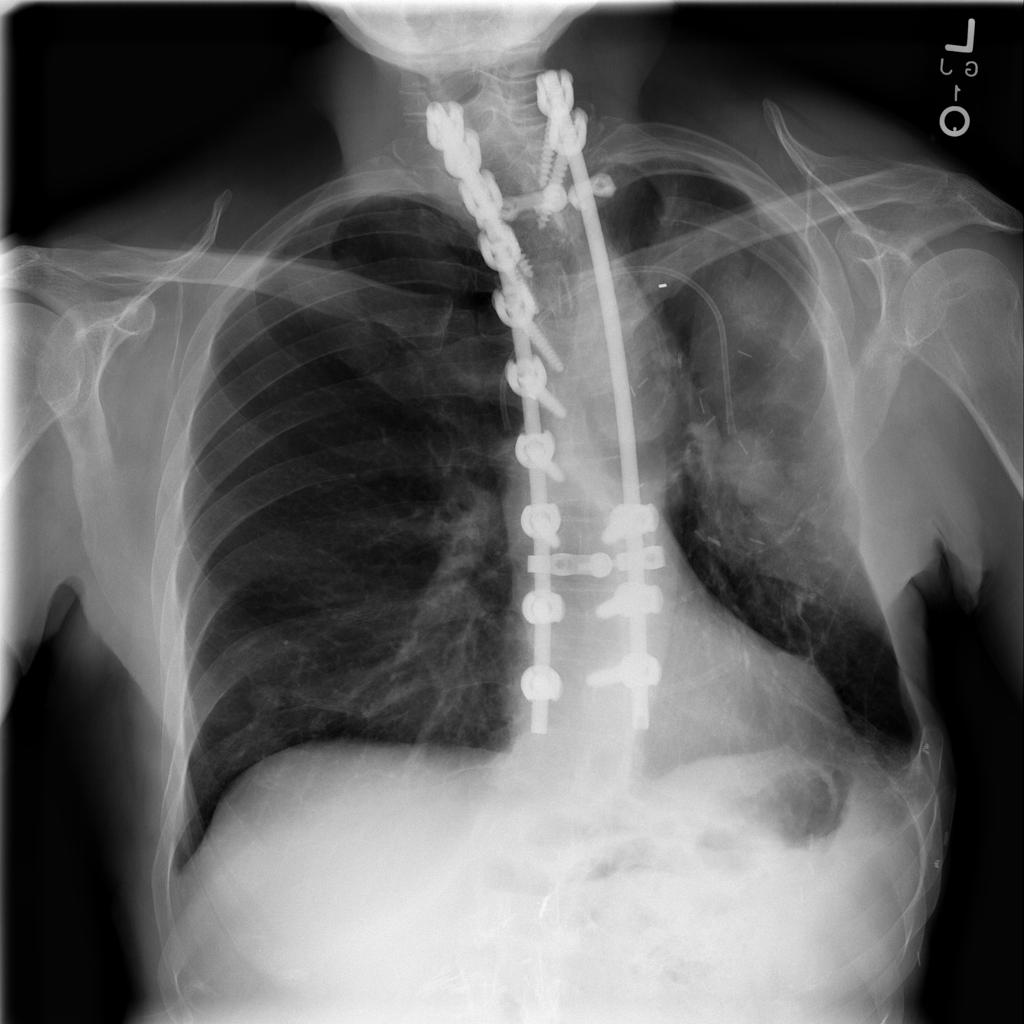nodule: (703, 421, 804, 545), (236, 676, 294, 723)
